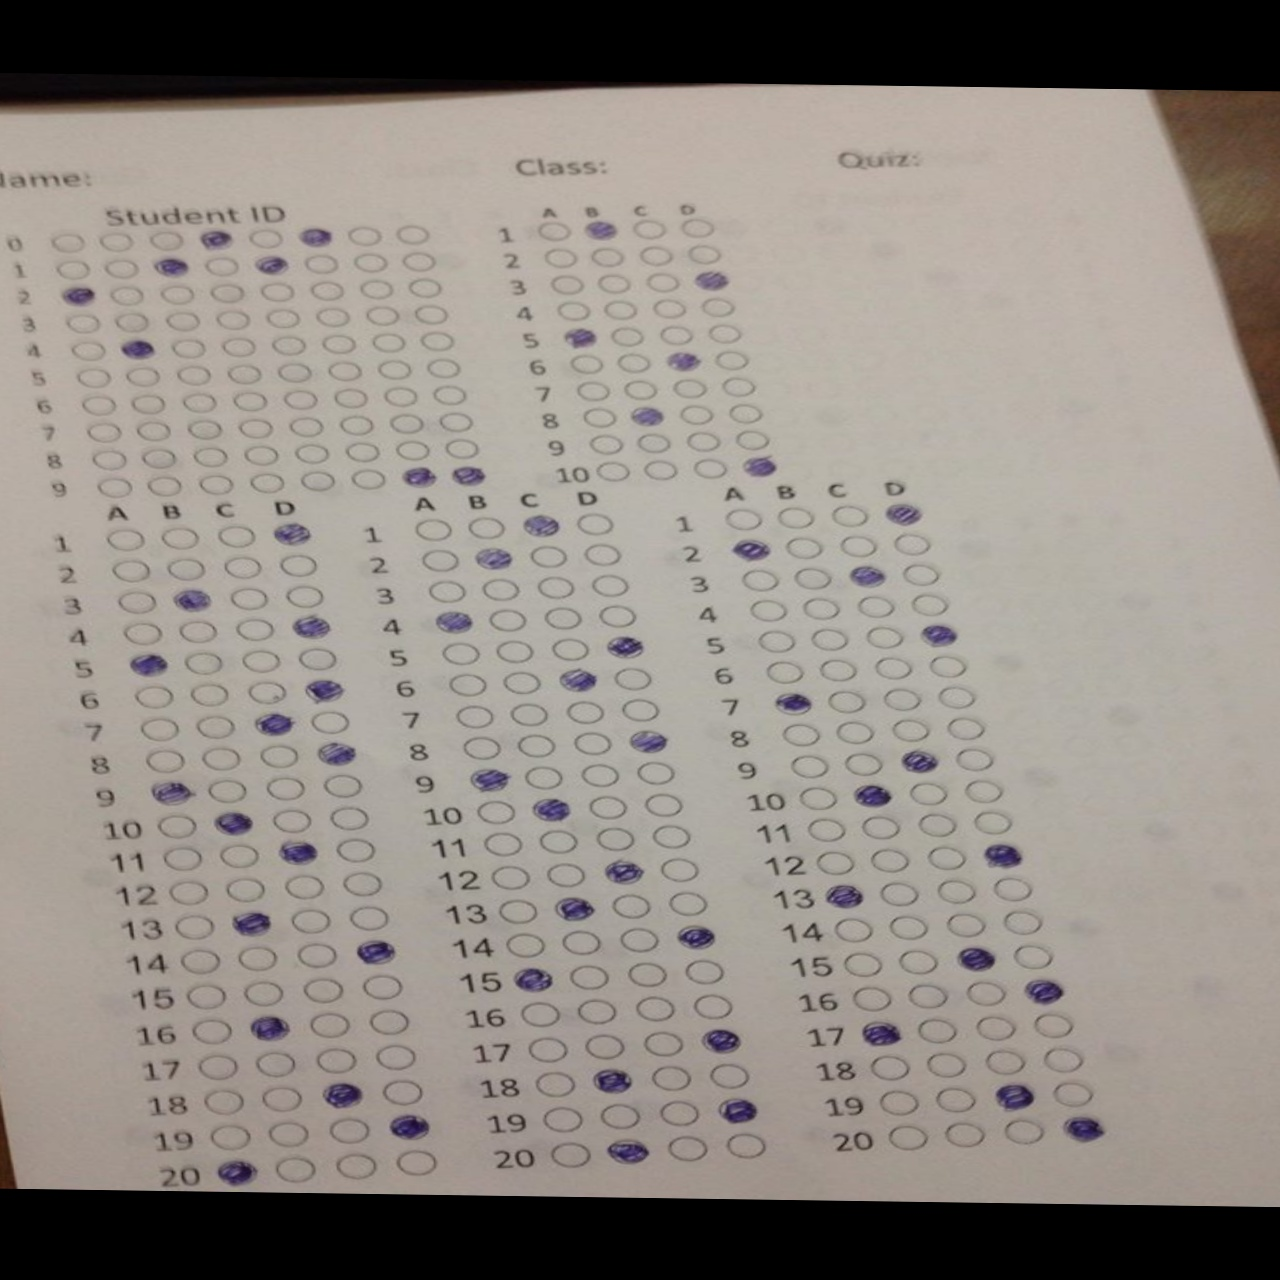not-c: (324, 1115, 376, 1148), (544, 1139, 595, 1170), (1047, 1080, 1099, 1109), (312, 1046, 362, 1076), (720, 1131, 770, 1162), (271, 1155, 319, 1186), (356, 972, 408, 1001), (987, 874, 1039, 904), (305, 1012, 355, 1041), (932, 1087, 982, 1116), (532, 1069, 580, 1099), (524, 1034, 572, 1064), (595, 1101, 645, 1130), (624, 960, 673, 989), (866, 1053, 913, 1083), (206, 1123, 257, 1151), (264, 1121, 314, 1149), (981, 1048, 1032, 1076), (367, 1007, 411, 1039), (200, 1087, 248, 1116), (680, 958, 728, 987), (495, 897, 543, 926), (973, 1014, 1021, 1043), (240, 979, 286, 1009), (707, 1061, 753, 1091), (633, 994, 679, 1024), (885, 913, 934, 941), (940, 1121, 989, 1149), (166, 878, 213, 907), (177, 947, 224, 976), (188, 1017, 234, 1047), (195, 1051, 241, 1081), (259, 1084, 306, 1114), (566, 964, 613, 993), (905, 982, 952, 1012), (924, 1050, 971, 1080), (964, 979, 1008, 1009), (885, 1123, 930, 1153), (154, 812, 202, 840), (286, 907, 334, 935), (182, 983, 230, 1012), (665, 1133, 713, 1162), (607, 892, 655, 920), (999, 908, 1047, 937), (847, 985, 896, 1013), (788, 753, 833, 782), (877, 1090, 922, 1119), (639, 791, 688, 818), (263, 775, 309, 803), (268, 806, 315, 835), (294, 942, 341, 971), (830, 915, 877, 944), (840, 949, 887, 978), (913, 1015, 960, 1043), (1039, 1047, 1085, 1075), (173, 913, 218, 942), (1010, 942, 1055, 972), (656, 856, 704, 883), (578, 763, 626, 790), (949, 747, 998, 774), (333, 836, 379, 864), (236, 945, 281, 973), (542, 862, 587, 890), (586, 794, 632, 822), (971, 809, 1016, 837), (813, 850, 859, 878), (348, 904, 392, 933), (215, 843, 264, 869), (136, 715, 183, 742), (253, 1051, 300, 1078), (394, 1150, 441, 1177), (658, 1099, 704, 1126), (451, 703, 498, 730), (593, 602, 640, 629), (944, 911, 990, 938), (334, 1153, 379, 1182), (649, 1064, 694, 1092), (689, 993, 734, 1021), (513, 733, 558, 761), (934, 878, 979, 906), (799, 597, 847, 622), (257, 742, 302, 769), (503, 932, 549, 959), (1000, 1119, 1046, 1146), (617, 926, 660, 954), (778, 720, 822, 748), (280, 583, 327, 608), (205, 777, 252, 803), (519, 765, 566, 791), (568, 730, 615, 756), (823, 689, 870, 715), (231, 617, 275, 644), (131, 683, 176, 710), (327, 805, 372, 832), (540, 1107, 585, 1133), (583, 1033, 627, 1060), (634, 760, 679, 787), (506, 702, 551, 729), (896, 949, 940, 976), (309, 709, 352, 737), (220, 878, 268, 903), (461, 735, 506, 761), (486, 607, 532, 633), (588, 573, 634, 599), (789, 565, 835, 591), (862, 626, 907, 652), (842, 751, 887, 777), (869, 849, 914, 874), (876, 881, 921, 907), (183, 651, 226, 678), (200, 745, 244, 772), (380, 1080, 423, 1107), (574, 998, 618, 1024), (899, 561, 942, 588), (944, 716, 987, 743), (859, 813, 903, 840), (924, 845, 967, 872), (649, 825, 696, 850), (535, 574, 576, 602), (779, 536, 826, 560), (891, 530, 932, 558), (297, 646, 341, 672), (519, 1002, 564, 1028), (549, 636, 593, 662), (722, 506, 767, 532), (762, 659, 806, 685), (817, 658, 862, 683), (933, 686, 978, 712), (342, 869, 384, 896), (301, 978, 343, 1005), (375, 1044, 417, 1071), (642, 1030, 685, 1057), (482, 831, 524, 858), (537, 828, 579, 855), (594, 826, 636, 853), (100, 257, 145, 281), (542, 605, 587, 629), (425, 578, 471, 602), (805, 627, 851, 652), (560, 928, 600, 956), (222, 554, 265, 580), (161, 846, 204, 872), (486, 864, 530, 890), (474, 799, 517, 825), (833, 720, 877, 745), (796, 785, 839, 811), (1032, 1013, 1075, 1039), (565, 699, 606, 726), (619, 697, 660, 724), (855, 595, 901, 619), (239, 649, 284, 674), (246, 680, 291, 704), (320, 772, 365, 797), (837, 533, 881, 558), (755, 629, 799, 654), (870, 658, 914, 682), (291, 441, 333, 467), (116, 591, 158, 617), (195, 714, 237, 740), (282, 874, 325, 900), (611, 666, 653, 692), (503, 670, 545, 696), (918, 811, 958, 838), (155, 282, 200, 306), (52, 258, 97, 281), (667, 891, 710, 915), (774, 506, 817, 531), (747, 598, 790, 622), (906, 592, 949, 617), (927, 655, 971, 680), (880, 687, 924, 712), (890, 719, 933, 743), (906, 782, 949, 806), (804, 818, 847, 843), (481, 577, 522, 602), (46, 231, 90, 254), (226, 587, 271, 611), (165, 557, 207, 581), (145, 749, 188, 774), (574, 512, 617, 537), (964, 778, 1006, 803), (448, 672, 488, 697), (583, 542, 622, 567), (105, 284, 149, 307), (493, 640, 537, 663), (413, 518, 456, 542), (336, 413, 377, 437), (297, 469, 338, 493), (215, 524, 256, 549), (441, 641, 482, 666), (527, 544, 568, 568), (467, 516, 508, 540), (554, 299, 595, 324), (206, 282, 251, 305), (93, 231, 137, 253), (121, 622, 165, 645), (278, 553, 320, 577), (178, 620, 220, 644), (189, 682, 229, 707), (420, 549, 459, 573), (656, 324, 696, 348), (573, 379, 613, 403), (738, 568, 782, 591), (105, 527, 147, 551), (542, 246, 583, 270), (300, 251, 339, 275), (62, 312, 104, 334), (436, 410, 478, 433), (158, 527, 200, 550), (111, 559, 154, 581), (710, 349, 753, 372), (719, 376, 761, 399), (147, 229, 186, 252), (277, 361, 316, 384), (343, 441, 383, 464), (267, 335, 308, 358), (173, 363, 215, 386), (429, 383, 470, 406), (197, 474, 238, 496), (547, 274, 588, 297), (704, 324, 745, 346), (621, 379, 662, 401), (399, 250, 437, 273), (394, 223, 433, 246), (69, 339, 108, 362), (86, 421, 124, 444), (581, 406, 620, 429), (830, 504, 869, 527), (374, 359, 416, 380), (640, 459, 682, 481), (345, 225, 384, 247), (326, 360, 366, 382), (350, 469, 390, 491), (281, 389, 321, 411), (191, 445, 231, 468), (636, 244, 676, 266), (601, 299, 641, 321), (568, 353, 608, 375), (670, 377, 710, 400), (651, 297, 688, 320), (443, 438, 484, 459), (181, 393, 222, 414), (644, 271, 685, 292), (246, 227, 285, 250), (124, 367, 163, 389), (424, 356, 463, 379), (141, 448, 179, 470), (321, 334, 361, 355), (332, 388, 372, 409), (685, 244, 724, 265), (726, 404, 765, 425), (204, 254, 241, 277), (352, 252, 389, 274), (219, 336, 257, 359), (679, 216, 716, 238), (678, 404, 715, 427), (735, 430, 772, 452), (358, 278, 396, 299), (370, 333, 409, 354), (227, 363, 266, 384), (144, 476, 183, 497), (96, 477, 135, 498), (685, 431, 723, 452), (633, 433, 672, 454), (408, 277, 444, 299), (365, 306, 401, 328), (315, 307, 352, 329), (389, 413, 425, 435), (288, 416, 325, 438), (590, 246, 626, 268), (595, 461, 632, 483), (588, 434, 625, 456), (411, 304, 449, 325), (248, 472, 286, 493), (243, 444, 280, 465), (237, 418, 274, 440), (136, 420, 173, 441), (629, 219, 667, 240), (699, 297, 736, 318), (615, 352, 653, 373), (77, 367, 113, 389), (260, 282, 297, 304), (265, 309, 301, 331), (215, 309, 251, 331), (113, 312, 149, 333), (382, 386, 418, 407), (91, 449, 128, 470), (233, 390, 270, 411), (186, 418, 223, 440), (610, 327, 646, 348), (79, 396, 116, 416), (535, 222, 572, 241), (418, 331, 455, 350), (693, 459, 729, 479), (309, 280, 343, 301), (165, 311, 200, 331), (396, 441, 433, 459), (130, 394, 166, 413), (170, 339, 204, 359), (597, 274, 631, 293)
taken-c: (604, 1136, 654, 1167), (145, 779, 199, 809), (229, 907, 275, 940), (350, 937, 399, 968), (247, 1013, 295, 1044), (714, 1096, 763, 1126), (1057, 1114, 1107, 1144), (978, 840, 1028, 870), (319, 1080, 366, 1110), (990, 1082, 1039, 1111), (207, 808, 254, 837), (699, 1024, 743, 1055), (124, 651, 171, 679), (384, 1112, 431, 1141), (275, 838, 320, 867), (590, 1065, 634, 1095), (252, 709, 298, 737), (822, 881, 869, 908), (170, 586, 215, 614), (954, 946, 999, 974), (268, 520, 316, 546), (215, 1158, 260, 1185), (859, 1020, 903, 1048), (467, 767, 513, 792), (472, 545, 517, 572), (879, 501, 924, 527), (1023, 978, 1065, 1006), (302, 679, 348, 704), (673, 924, 717, 949), (430, 610, 475, 635), (770, 692, 815, 717), (290, 614, 333, 640), (553, 897, 597, 922), (917, 624, 960, 649), (602, 860, 647, 885), (117, 336, 159, 362), (529, 796, 571, 822), (898, 748, 940, 774), (515, 967, 554, 994), (738, 455, 782, 479), (689, 268, 733, 293), (316, 742, 359, 767), (731, 538, 774, 563), (628, 728, 668, 754), (556, 667, 597, 692), (561, 326, 602, 350), (847, 564, 888, 588), (851, 784, 893, 808), (520, 515, 561, 538), (295, 224, 334, 248), (448, 464, 488, 488), (401, 467, 438, 491), (628, 404, 666, 429), (606, 634, 645, 658), (195, 229, 234, 251), (663, 349, 703, 372), (154, 257, 192, 279), (252, 256, 291, 277), (60, 285, 95, 306), (583, 222, 619, 241)
